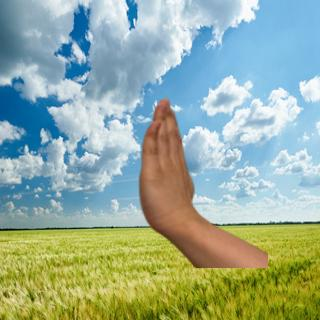RIGHT: (132, 96, 201, 239)
